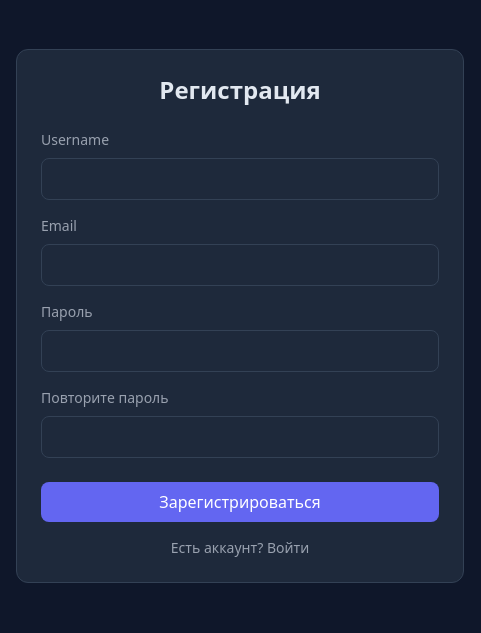
Test case: RegisterPage › shows error when passwords do not match
Type "newuser" into the field below "Username".
click(240, 179); type("newuser")  # box [41,158,439,200]
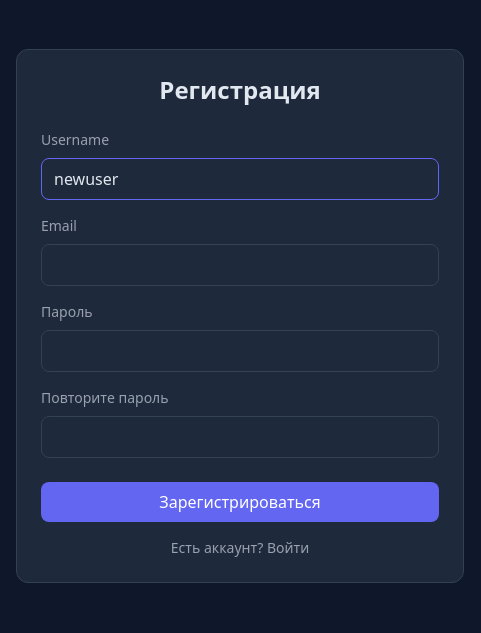
Type "e@e.com" into the field below "Email".
click(240, 265); type("e@e.com")  # box [41,244,439,286]
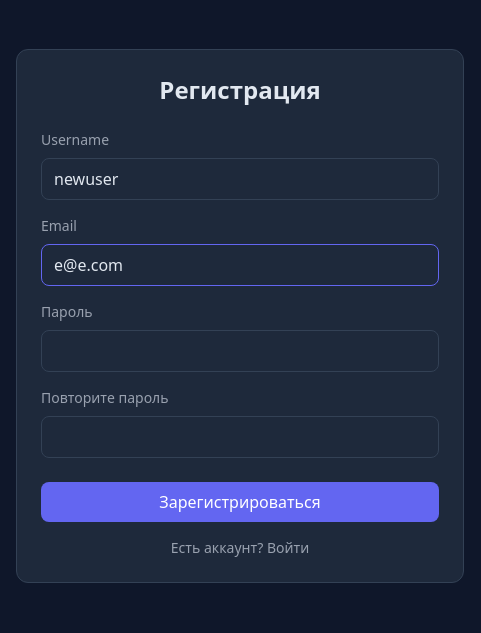
Type "password123" into the 1st password field.
click(240, 351); type("password123")  # box [41,330,439,372]
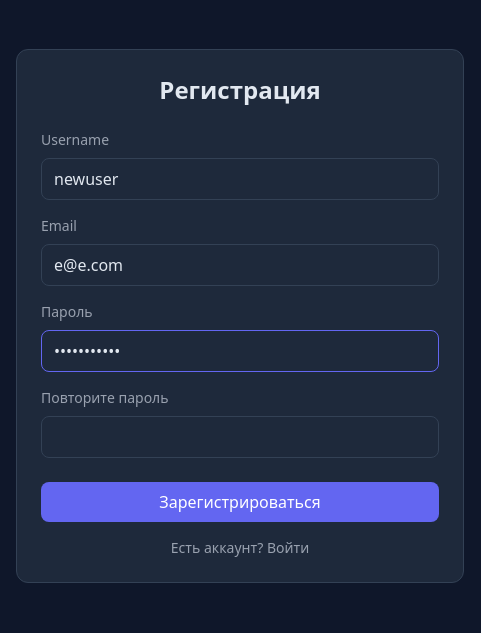
Type "different" into the password field below "Повторите пароль".
click(240, 437); type("different")  # box [41,416,439,458]
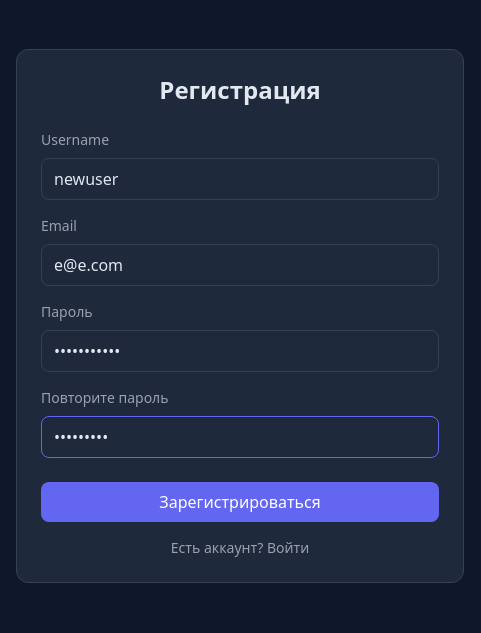
Click the button "Зарегистрироваться".
click(240, 502)  # box [41,482,439,522]
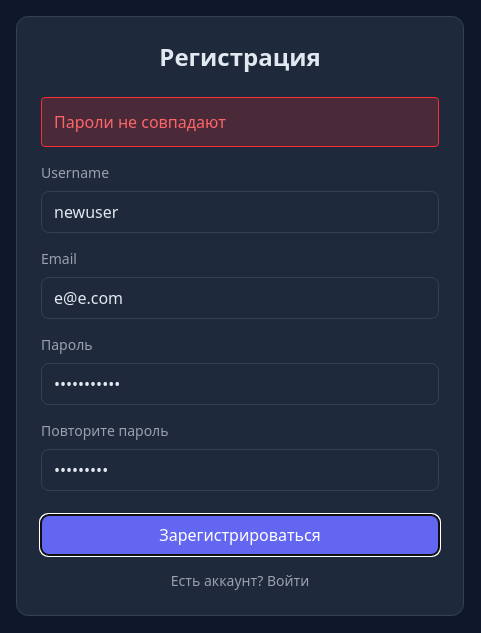
Expected: the text "Пароли не совпадают" is shown, [41,97,439,147]
